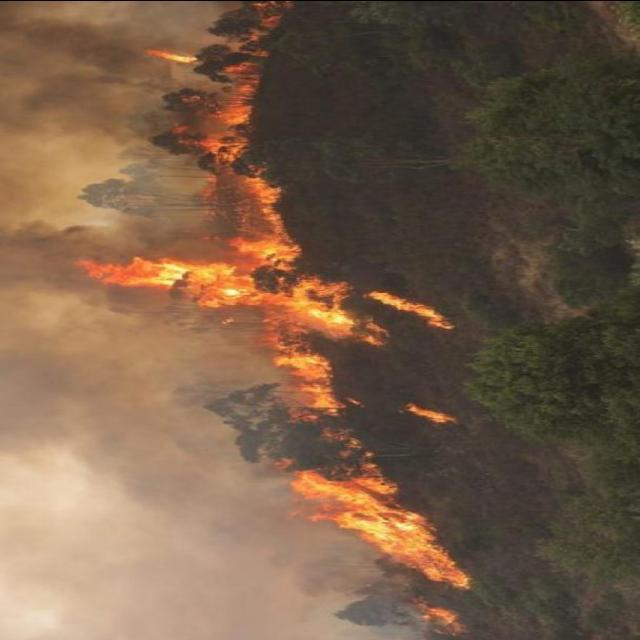Fire: (80, 6, 466, 592), (372, 290, 452, 328), (415, 604, 461, 635), (144, 44, 198, 64), (405, 402, 457, 422)
